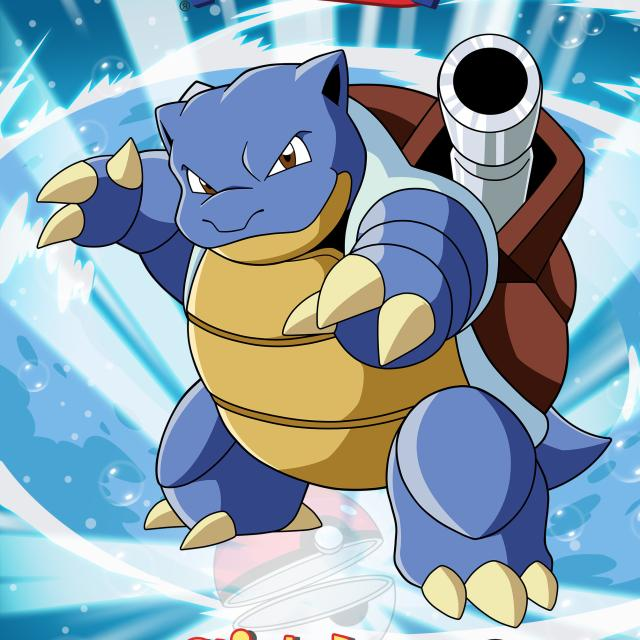Blastoise: (136, 25, 590, 553)
